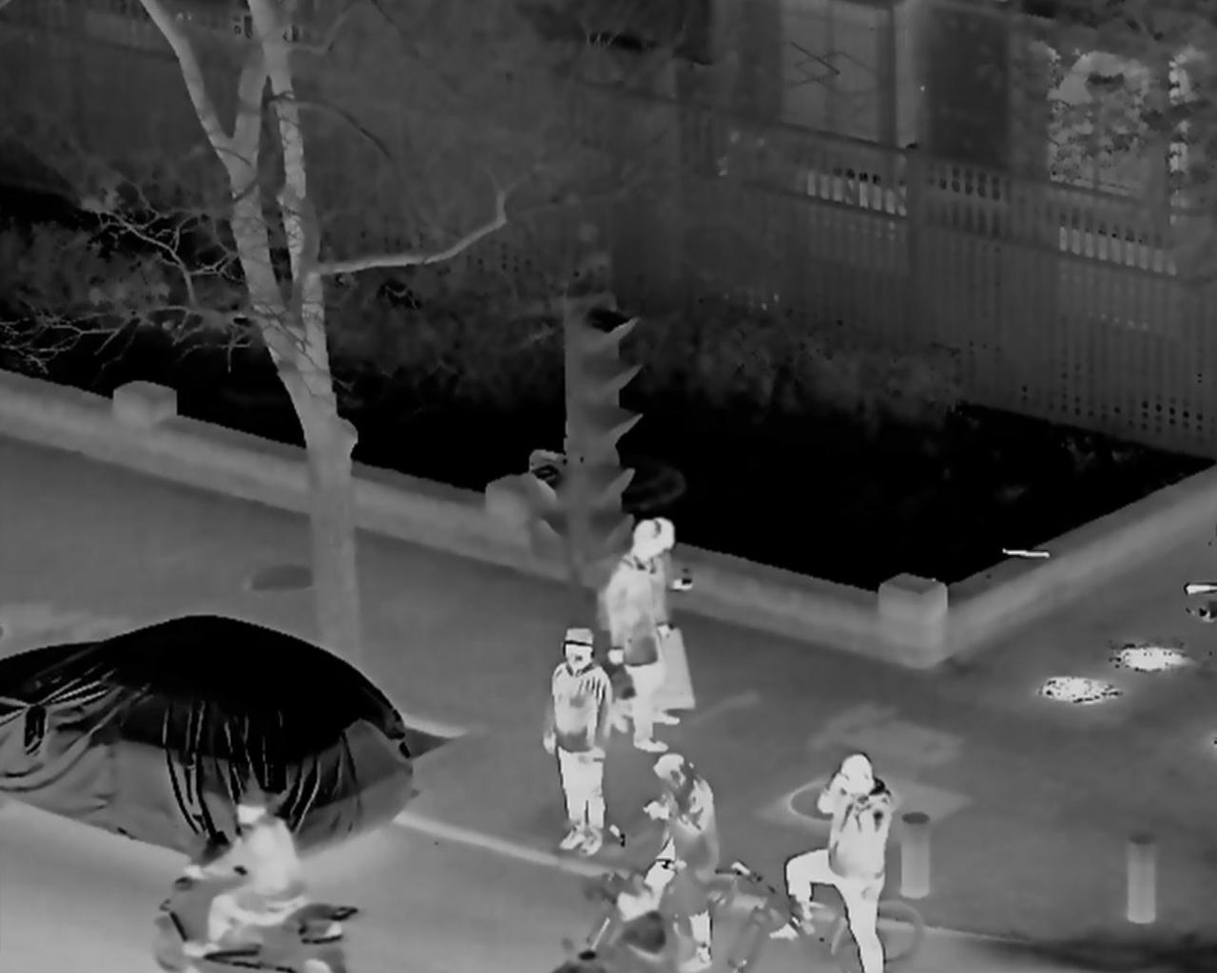person: (778, 754, 892, 972), (176, 788, 315, 964), (629, 753, 724, 971), (534, 626, 612, 865), (622, 520, 693, 724), (600, 516, 660, 749)
